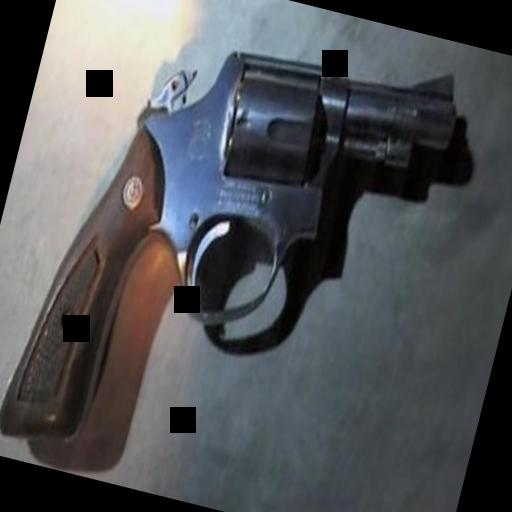Handgun: (0, 0, 471, 512)
